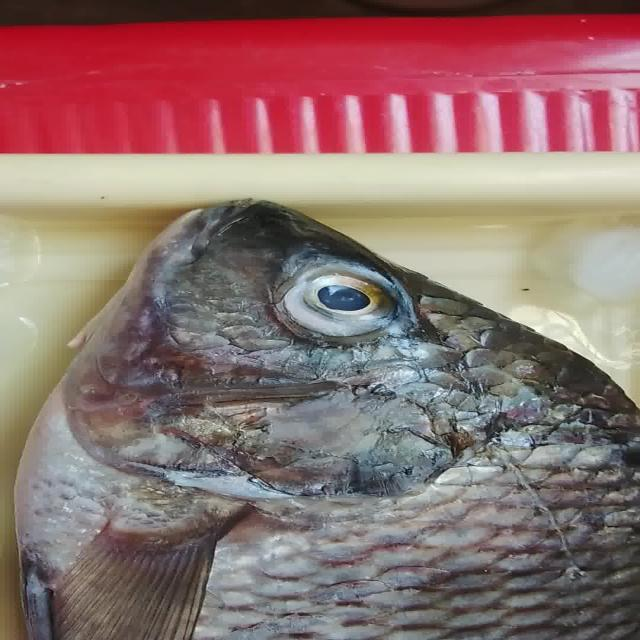Fresh: (7, 393, 640, 639), (253, 252, 444, 344)
